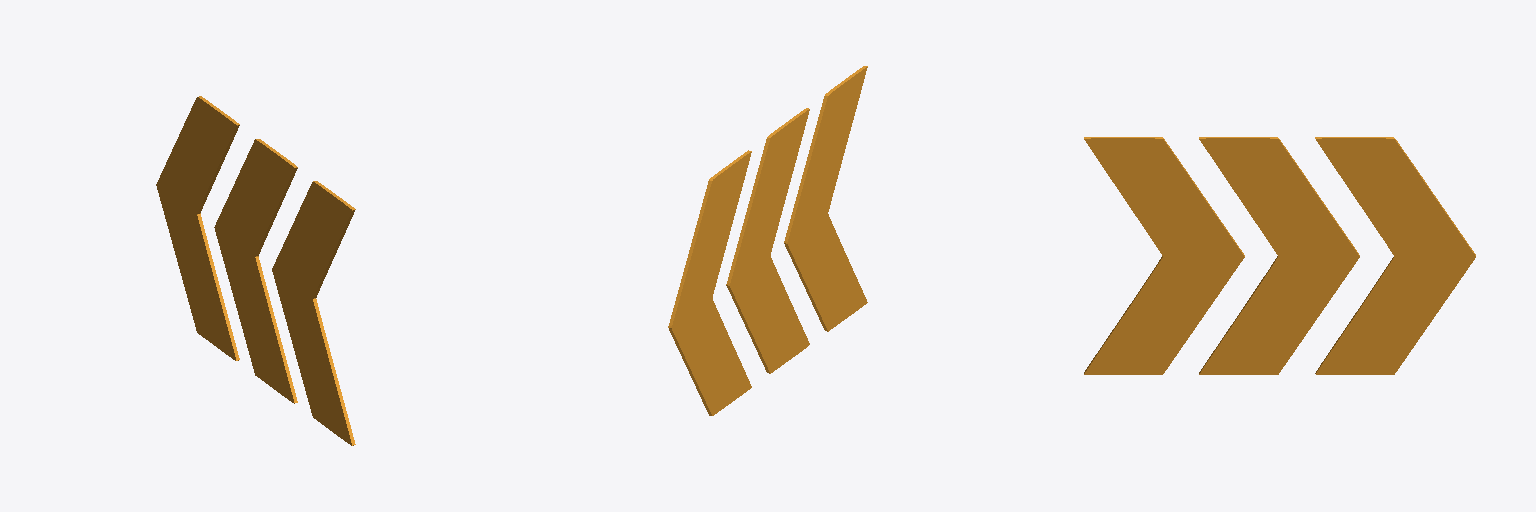
File: new-arrow.obj
3 views of the same model, side by side, from view 1: azimuth 30°, elevation 25°; view 2: azimuth 150°, elevation 25°; view 3: azimuth 270°, elevation 25° (orthographic).
Parts seen in each view (by area): view 1: Polygon_4_Polygon_2, Polygon_2.001_Polygon_2, Polygon_3_Polygon_2; view 2: Polygon_2.001_Polygon_2, Polygon_4_Polygon_2, Polygon_3_Polygon_2; view 3: Polygon_3_Polygon_2, Polygon_4_Polygon_2, Polygon_2.001_Polygon_2.
Part boxes in pixels (x1,y1,x2,y2): Polygon_4_Polygon_2: (272,181,355,445); Polygon_2.001_Polygon_2: (156,96,239,360); Polygon_3_Polygon_2: (214,139,297,403); Polygon_2.001_Polygon_2: (668,150,751,415); Polygon_4_Polygon_2: (784,66,867,331); Polygon_3_Polygon_2: (726,108,809,373); Polygon_3_Polygon_2: (1199,137,1359,374); Polygon_4_Polygon_2: (1084,137,1244,374); Polygon_2.001_Polygon_2: (1315,137,1475,374).
Bounding box in the file's own units: 0.3 × 20 × 30.01.